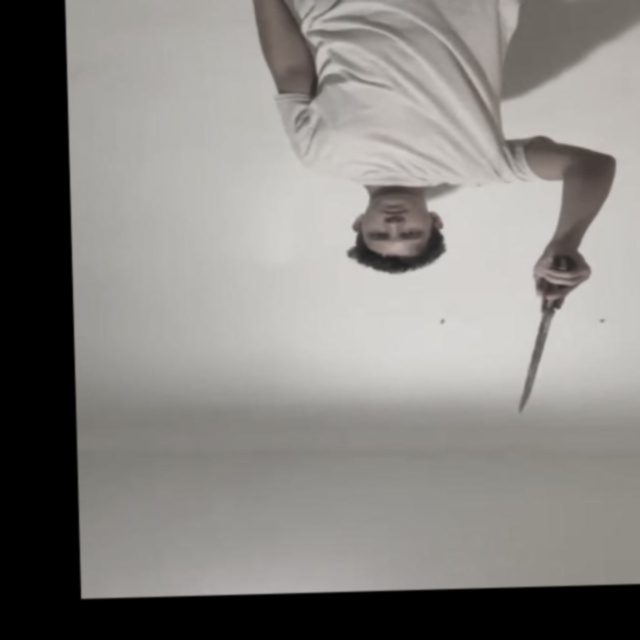Sharp-Object: (515, 314, 554, 415)
